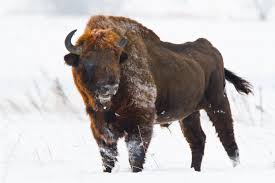zubr: (54, 6, 263, 183)
